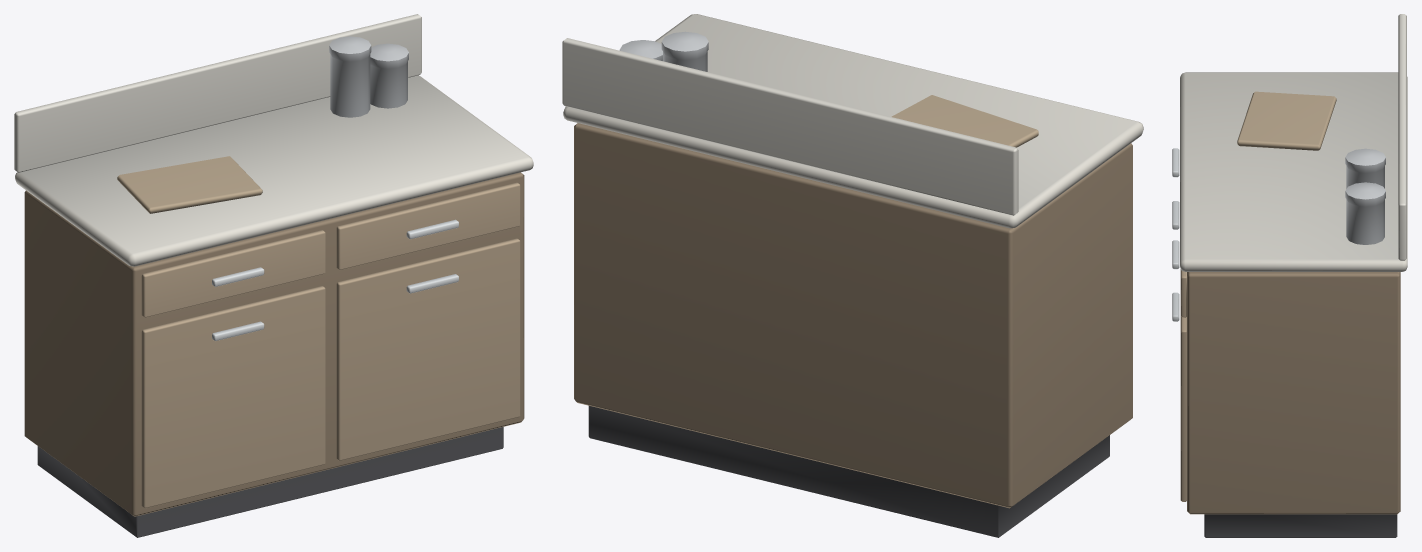
The model's file is counter.glb.
3 views of the same model, side by side, from view 1: azimuth 30°, elevation 25°; view 2: azimuth 150°, elevation 25°; view 3: azimuth 270°, elevation 25° (orthographic). The views are drawn at different scales.
Parts seen in each view (by area): view 1: furn_counter; view 2: furn_counter; view 3: furn_counter.
Boxes of the visible parts, x1,y1,x2,y2 form: furn_counter: (14, 14, 533, 537); furn_counter: (562, 14, 1143, 537); furn_counter: (1172, 14, 1407, 537).
Bounding box in the file's own units: 1.29 × 1.11 × 0.672.
